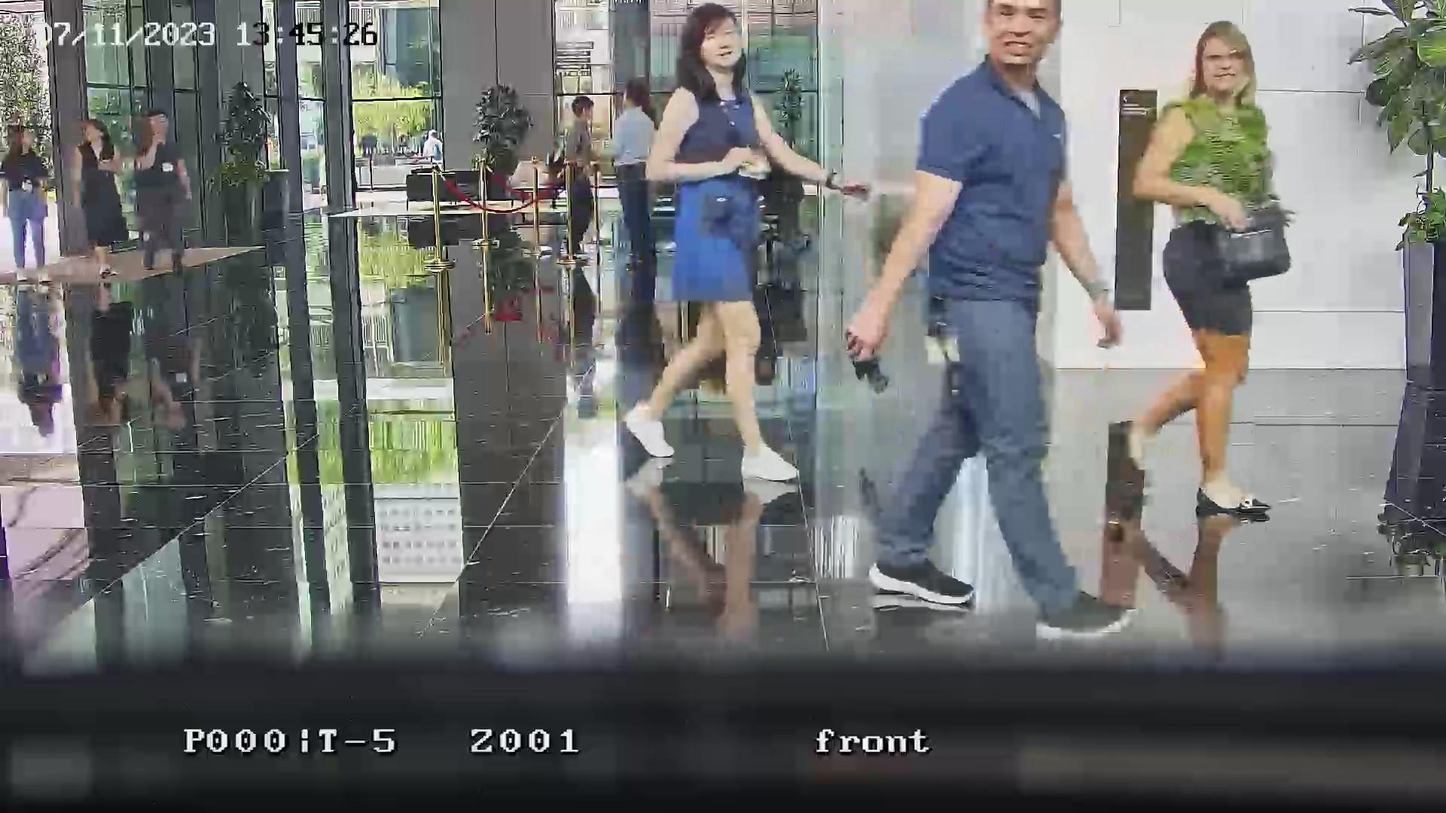person: (843, 2, 1133, 636), (624, 4, 873, 487), (1124, 19, 1290, 525), (132, 108, 193, 272), (611, 77, 658, 269), (0, 127, 53, 284), (75, 116, 129, 257), (560, 95, 600, 263), (422, 128, 442, 163)
